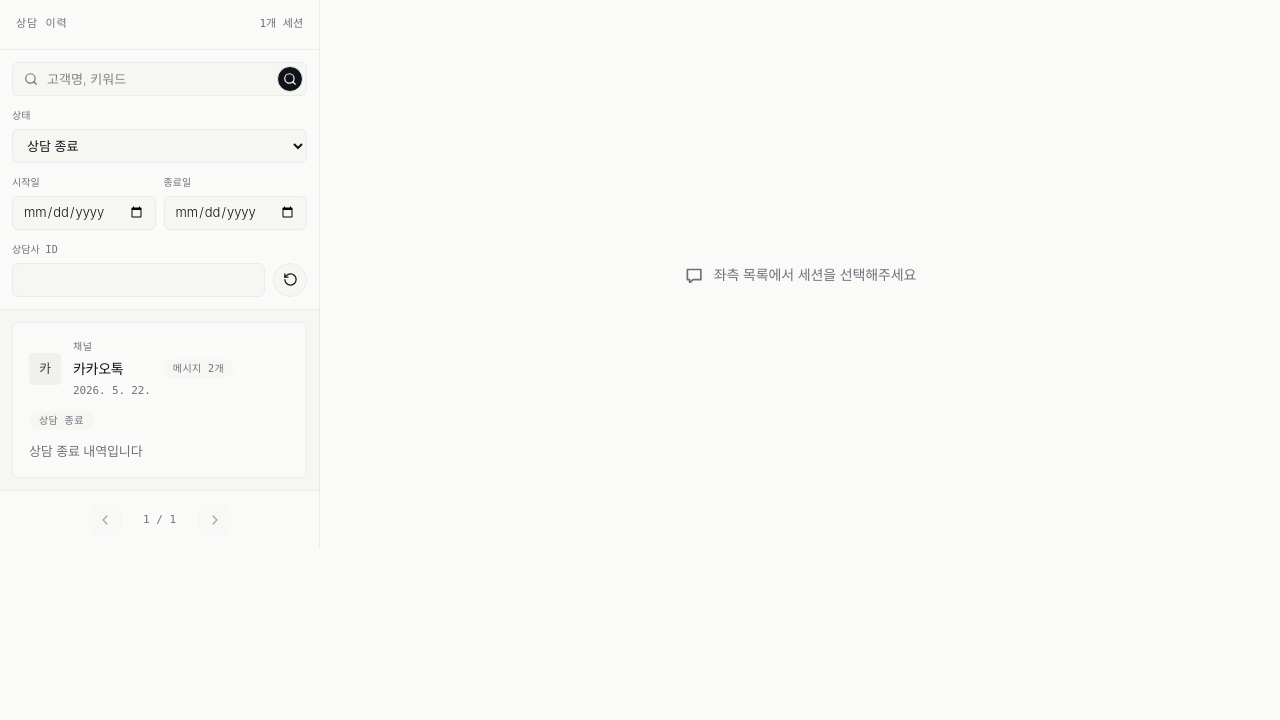
Test: ChatHistoryPage › 세션을 선택하면 해당 세션의 메시지 내역을 표시한다
Click the button "카 채널 카카오톡 2026. 5. 22. 메시지 2개 상담 종료 상담 종료 내역입니다".
click(45, 369)  # box [12,322,307,478]
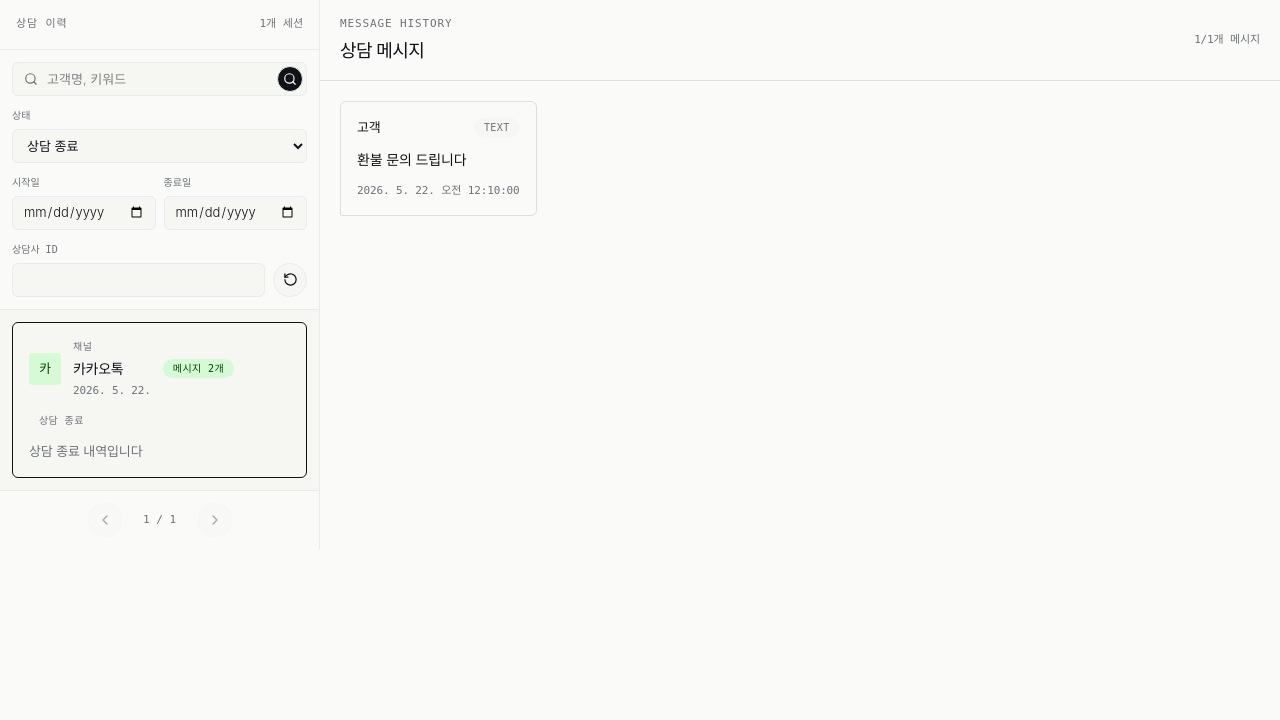
Expected: the text "고객" is shown, [357,118,380,137]
Expected: the text "환불 문의 드립니다" is shown, [357,151,466,168]
Expected: the text "TEXT" is shown, [474,118,520,137]
